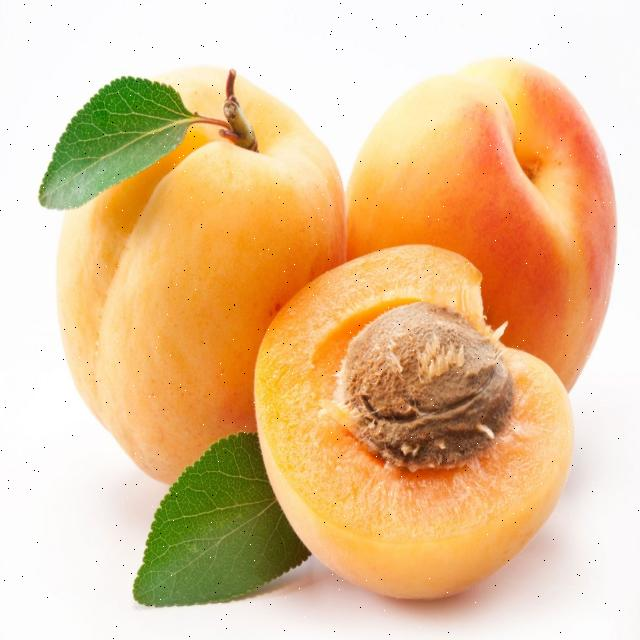Cekirdek: (337, 302, 515, 470)
Kayisi: (255, 245, 573, 597), (346, 59, 616, 390)
Yaprak: (133, 432, 310, 606), (39, 77, 199, 209)
